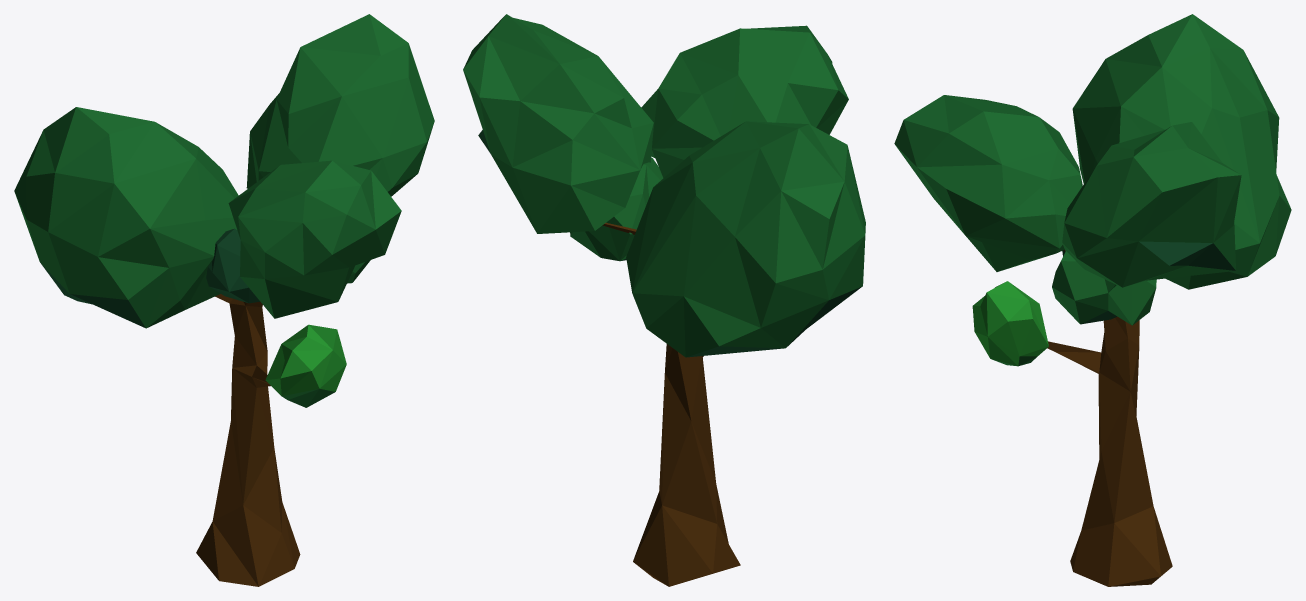
File: TreeLeaf_0.fbx
The picture shows the model from 3 angles, left to right: view 1: azimuth 30°, elevation 25°; view 2: azimuth 150°, elevation 25°; view 3: azimuth 270°, elevation 25°; orthographic projection. The views are drawn at different scales.
Visible parts, largest first — view 1: Cylinder.001; view 2: Cylinder.001; view 3: Cylinder.001.
Boxes of the visible parts, x1,y1,x2,y2 form: Cylinder.001: (14,14,434,586); Cylinder.001: (463,14,865,586); Cylinder.001: (894,14,1291,586).
Size of the model in its own units: 1004 by 1324 by 910.
